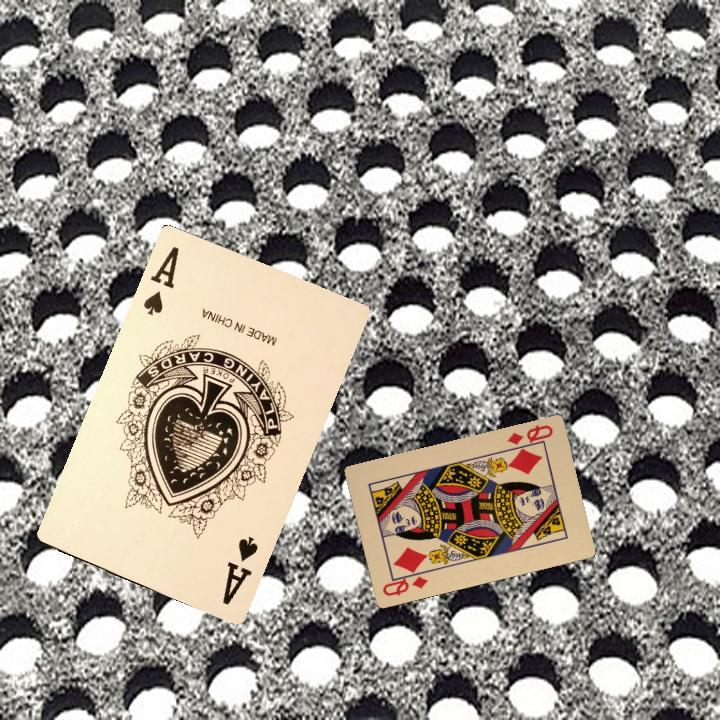As: (218, 532, 261, 608), (139, 242, 182, 318)
Qd: (503, 421, 555, 454), (378, 567, 432, 598)
